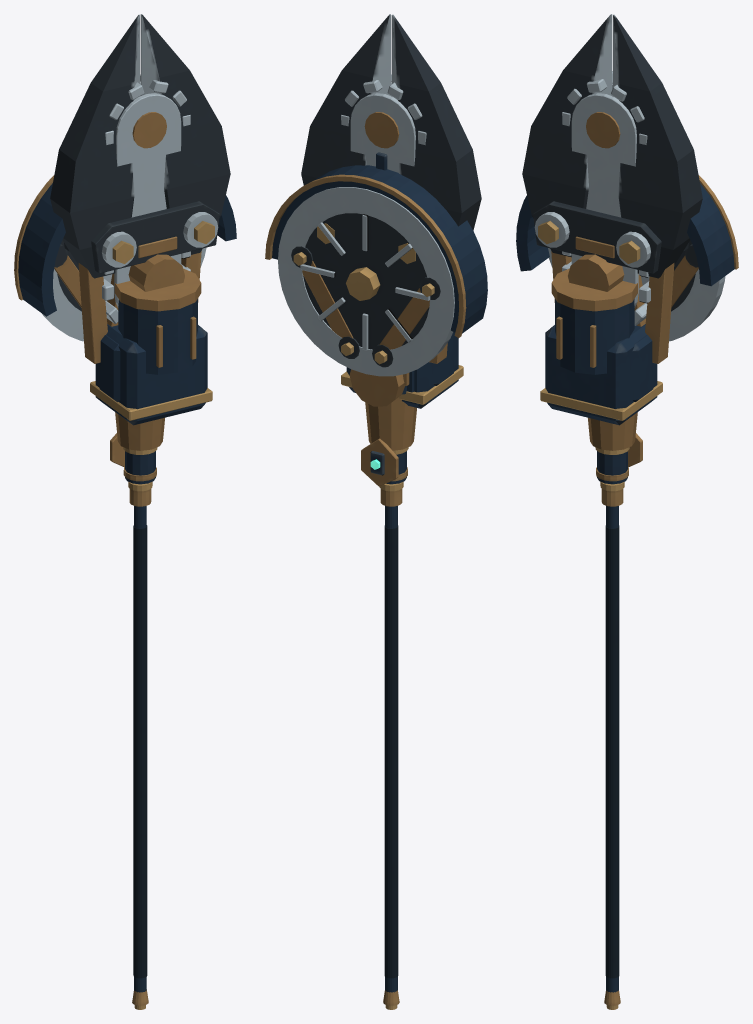
The model's file is staff_parts.glb.
3 views of the same model, side by side, from view 1: azimuth 30°, elevation 25°; view 2: azimuth 150°, elevation 25°; view 3: azimuth 330°, elevation 25° (orthographic).
Parts seen in each view (by area): view 1: cutter_jaw_l, cutter_jaw_r, cutter_saddle, grip_sleeve, grinder_motor, saw_motor, saw_guide_back, grinder_guard, grinder_disc, grinder_axle, core_receiver, ornament_mount (+3 smaller); view 2: grinder_disc, cutter_jaw_l, grinder_guard, grip_sleeve, cutter_jaw_r, saw_guide_front, core_receiver, cutter_link_r, cutter_link_l, saw_motor, grinder_mount, seal_plate (+3 smaller); view 3: cutter_jaw_r, cutter_jaw_l, cutter_saddle, grip_sleeve, grinder_motor, saw_motor, saw_guide_back, grinder_guard, grinder_disc, grinder_axle, core_receiver, ornament_mount (+3 smaller).
Part boxes in pixels (bbox=[...]): cutter_jaw_l: bbox=[50, 14, 139, 278]; cutter_jaw_r: bbox=[140, 14, 230, 254]; cutter_saddle: bbox=[64, 201, 219, 401]; grip_sleeve: bbox=[133, 525, 147, 978]; grinder_motor: bbox=[115, 268, 201, 374]; saw_motor: bbox=[90, 324, 212, 425]; saw_guide_back: bbox=[114, 93, 181, 307]; grinder_guard: bbox=[14, 175, 236, 316]; grinder_disc: bbox=[42, 240, 206, 341]; grinder_axle: bbox=[128, 254, 184, 291]; core_receiver: bbox=[115, 412, 164, 450]; ornament_mount: bbox=[123, 447, 157, 484]; grinder_disc: bbox=[278, 187, 454, 376]; cutter_jaw_l: bbox=[391, 14, 481, 263]; grinder_guard: bbox=[265, 165, 487, 337]; grip_sleeve: bbox=[384, 525, 398, 978]; cutter_jaw_r: bbox=[301, 14, 390, 244]; saw_guide_front: bbox=[350, 93, 415, 172]; core_receiver: bbox=[365, 386, 416, 450]; cutter_link_r: bbox=[291, 246, 359, 358]; cutter_link_l: bbox=[372, 277, 440, 367]; saw_motor: bbox=[341, 332, 463, 408]; grinder_mount: bbox=[349, 369, 414, 406]; seal_plate: bbox=[361, 438, 398, 486]; cutter_jaw_r: bbox=[613, 14, 702, 278]; cutter_jaw_l: bbox=[522, 14, 612, 257]; cutter_saddle: bbox=[533, 201, 688, 401]; grip_sleeve: bbox=[605, 525, 619, 978]; grinder_motor: bbox=[551, 268, 637, 374]; saw_motor: bbox=[540, 324, 662, 425]; saw_guide_back: bbox=[571, 93, 638, 307]; grinder_guard: bbox=[516, 175, 738, 286]; grinder_disc: bbox=[548, 240, 725, 341]; grinder_axle: bbox=[568, 254, 624, 291]; core_receiver: bbox=[588, 412, 637, 450]; ornament_mount: bbox=[595, 447, 629, 484].
Bounding box in the file's own units: 0.3559 × 1.7 × 0.2205.
Materials: 2 (2 with a texture image).
